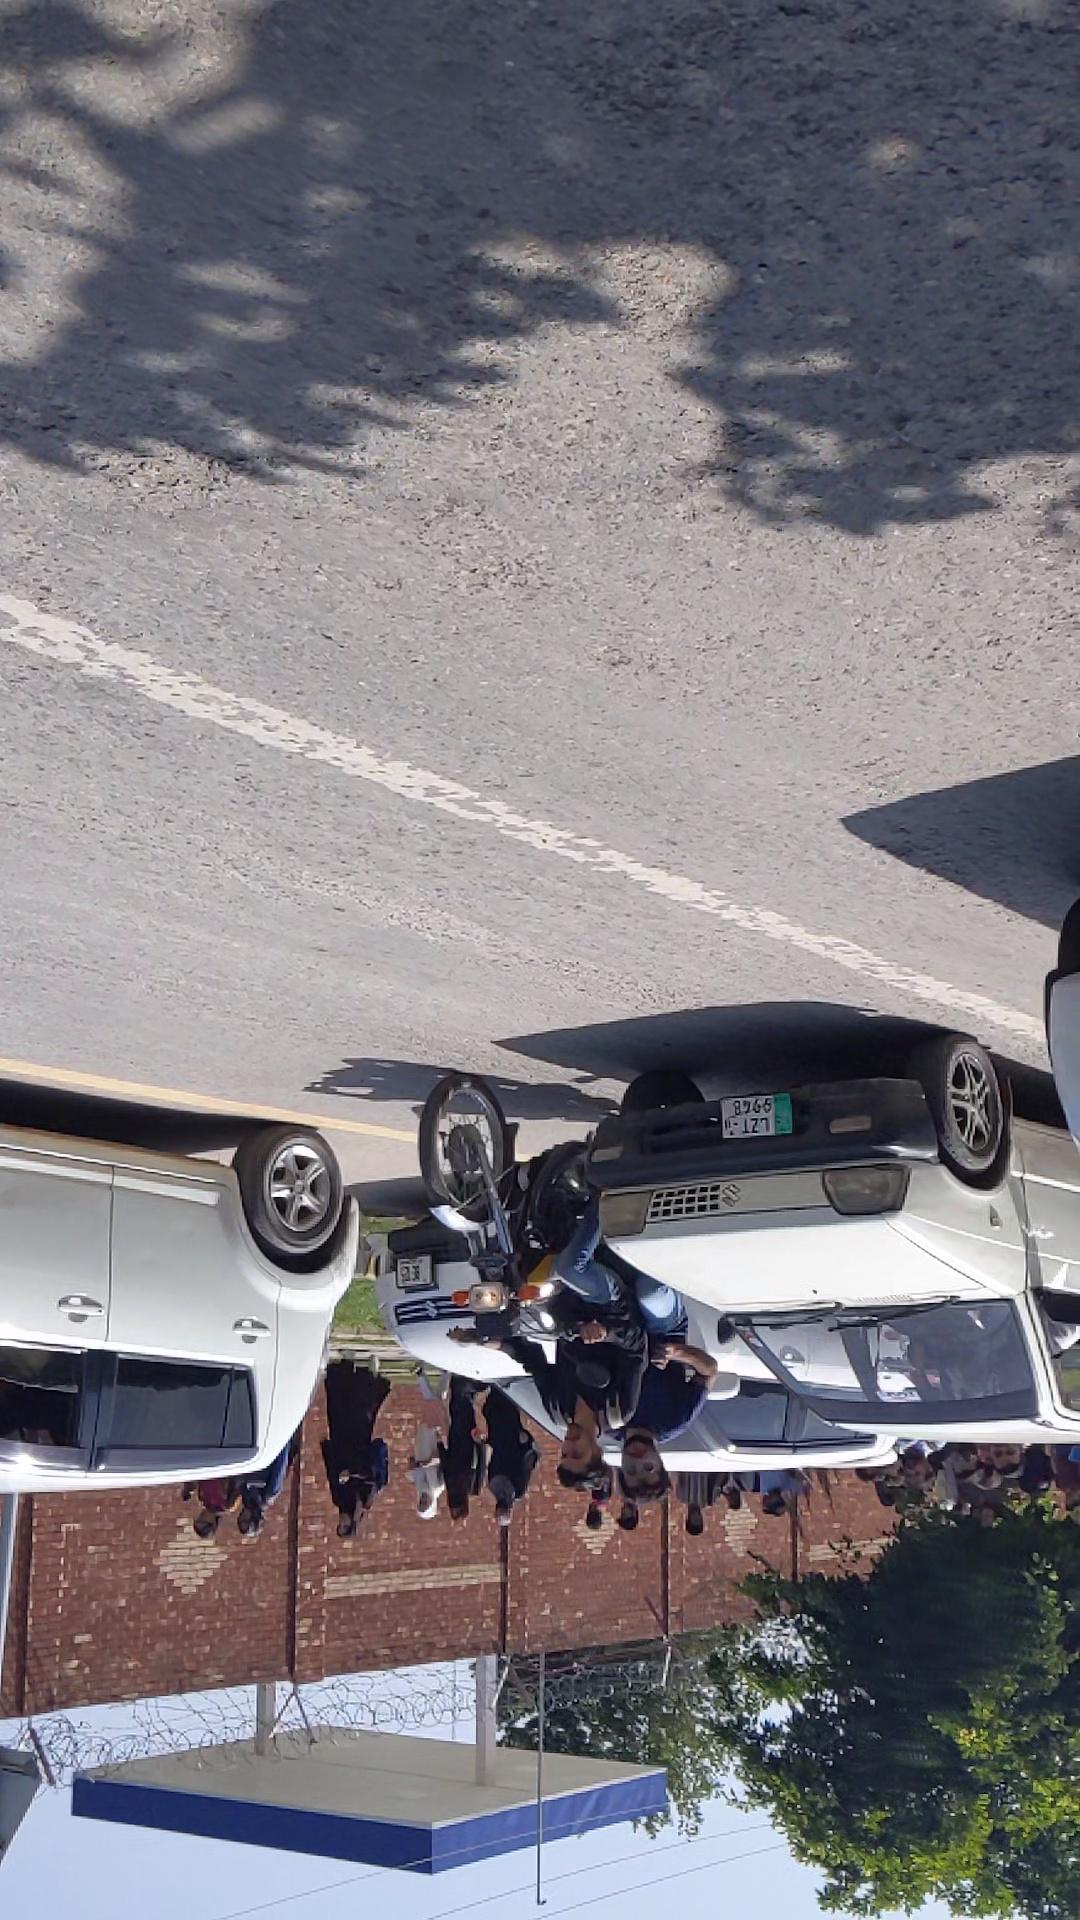windshield: (41, 491, 361, 650)
